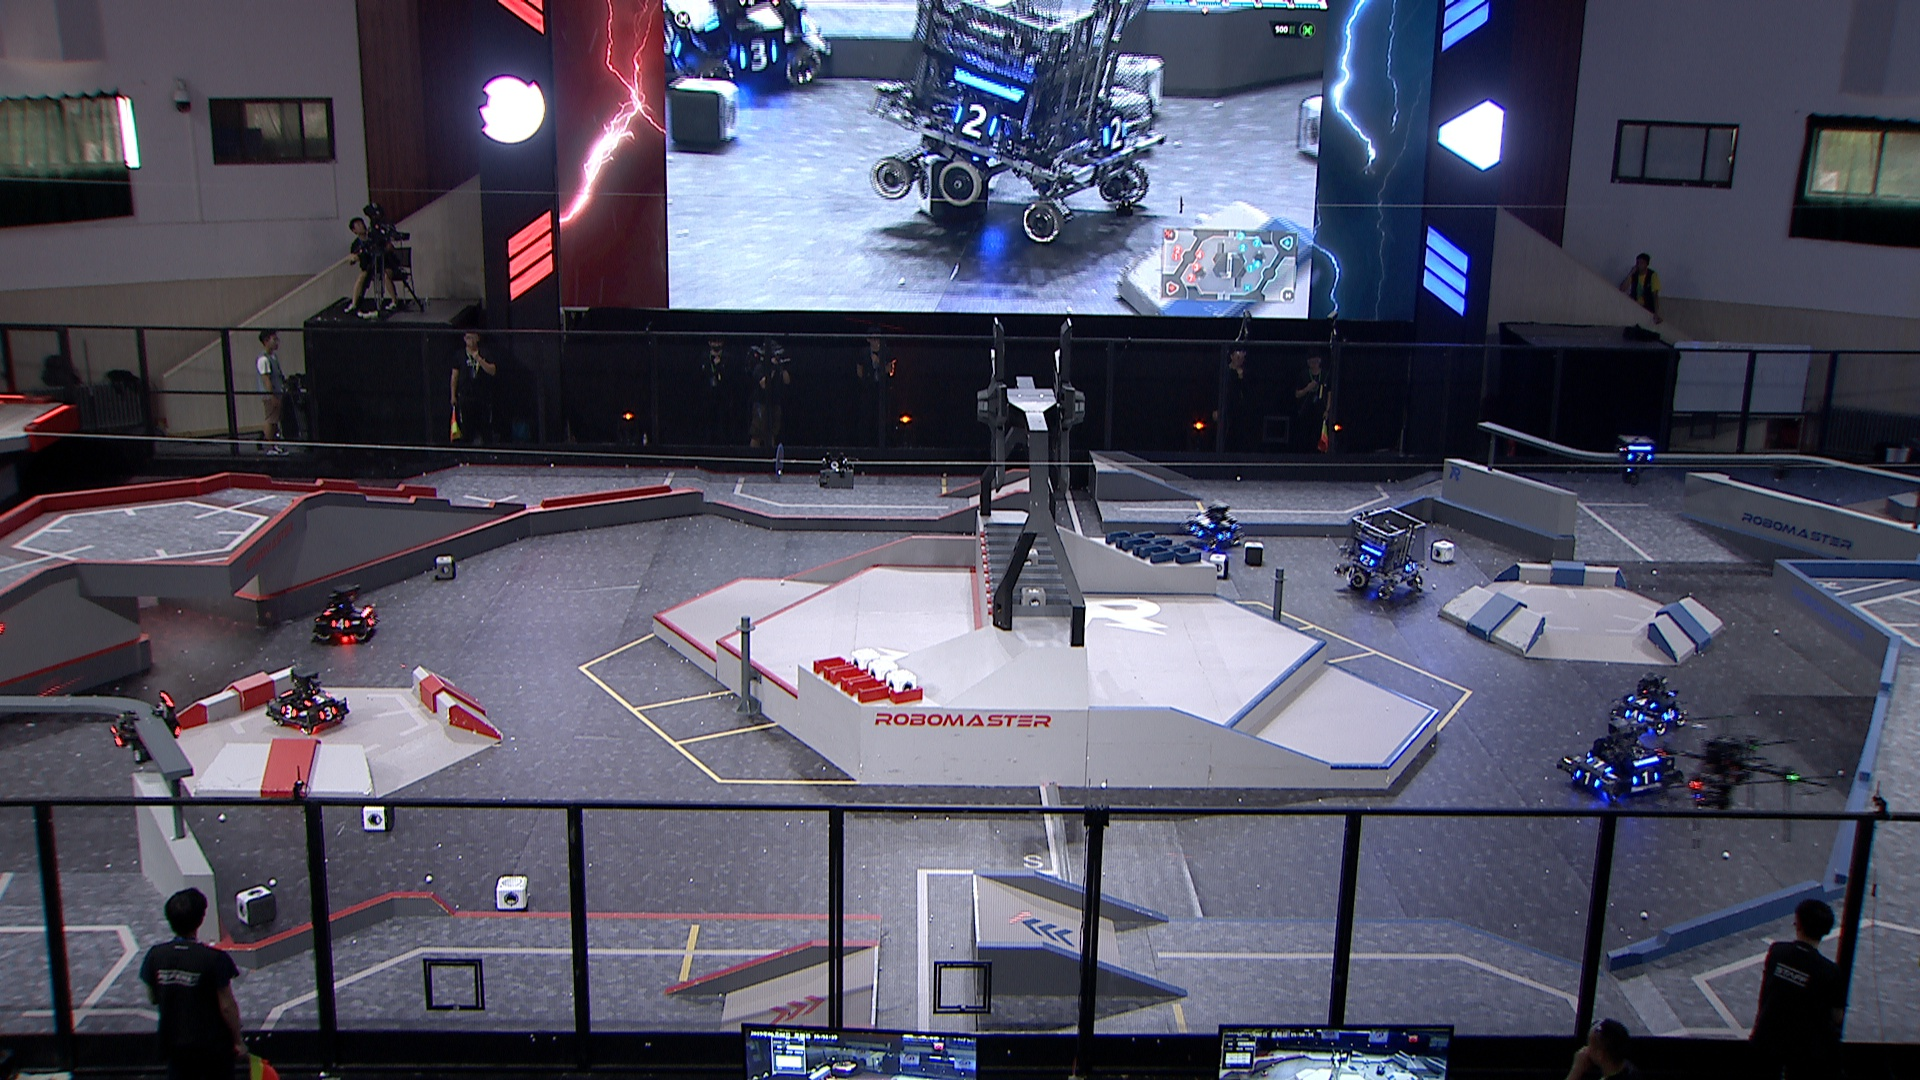armor: (1571, 767, 1604, 789), (1633, 769, 1660, 787), (1621, 708, 1648, 725), (276, 704, 301, 723), (1584, 756, 1611, 771), (301, 692, 338, 704), (316, 704, 338, 723), (1626, 695, 1655, 708), (328, 618, 353, 633), (1627, 451, 1655, 463), (1193, 516, 1216, 529), (1189, 524, 1205, 541), (1360, 553, 1378, 567), (1215, 529, 1233, 541), (1403, 560, 1418, 572), (1662, 709, 1677, 719)
car: (1556, 719, 1687, 803), (1335, 506, 1432, 603), (261, 665, 352, 737), (1607, 670, 1691, 736), (310, 582, 377, 642), (1182, 498, 1247, 553)
watcher: (109, 692, 181, 764), (1614, 433, 1664, 485)
